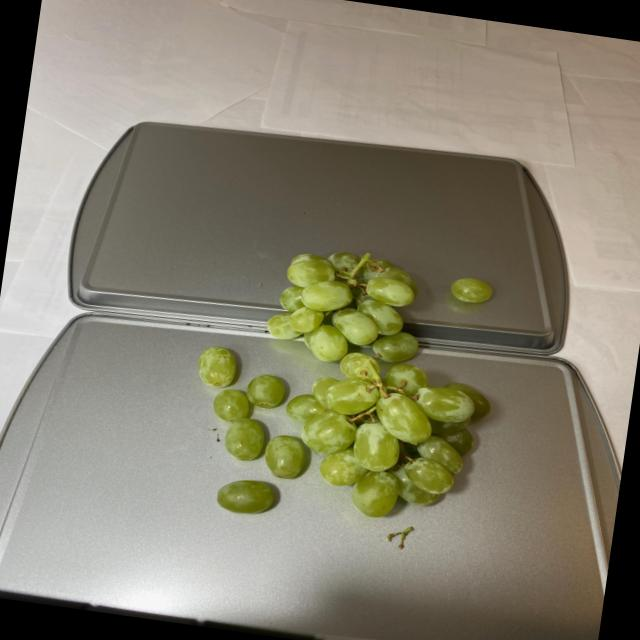grapes: (181, 235, 504, 548)
